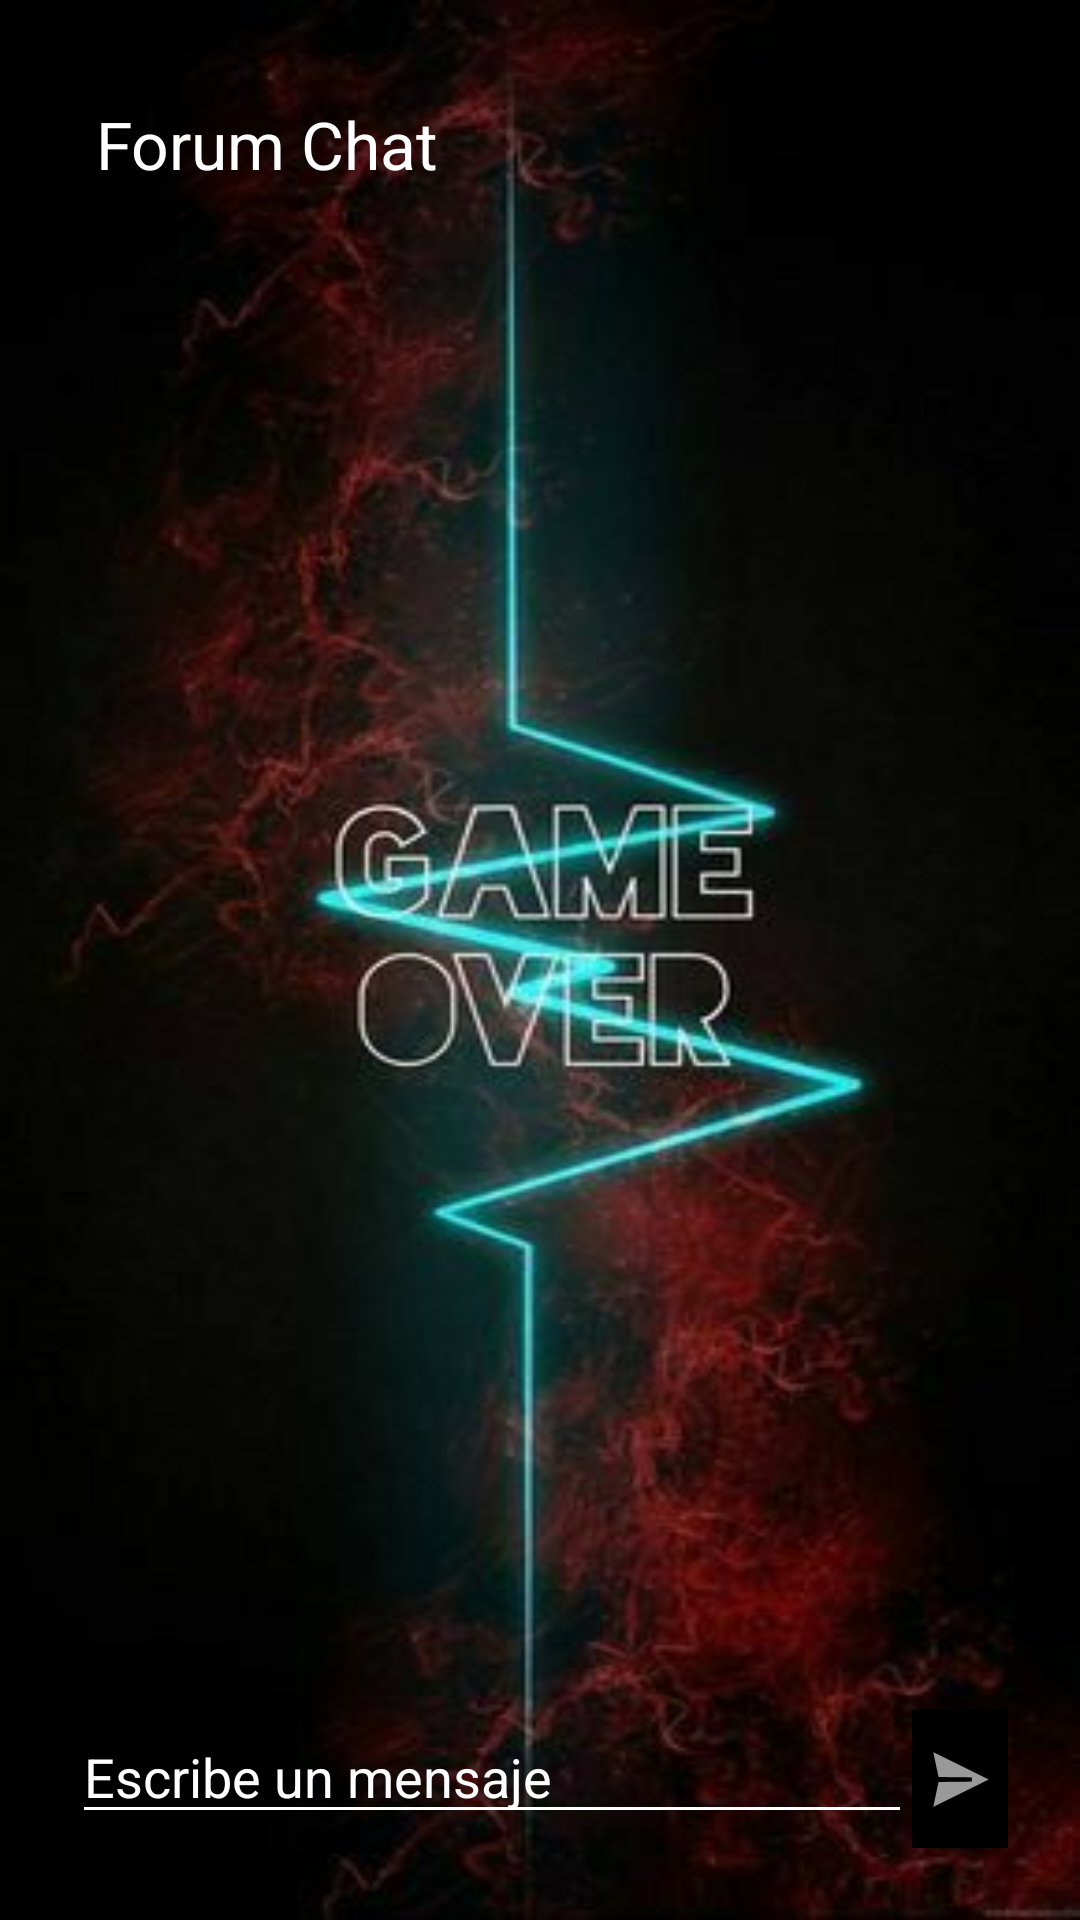

Icon click points for this 1080x1920 phone screenshot, format point (x, y):
Enviar: point (960, 1779)
